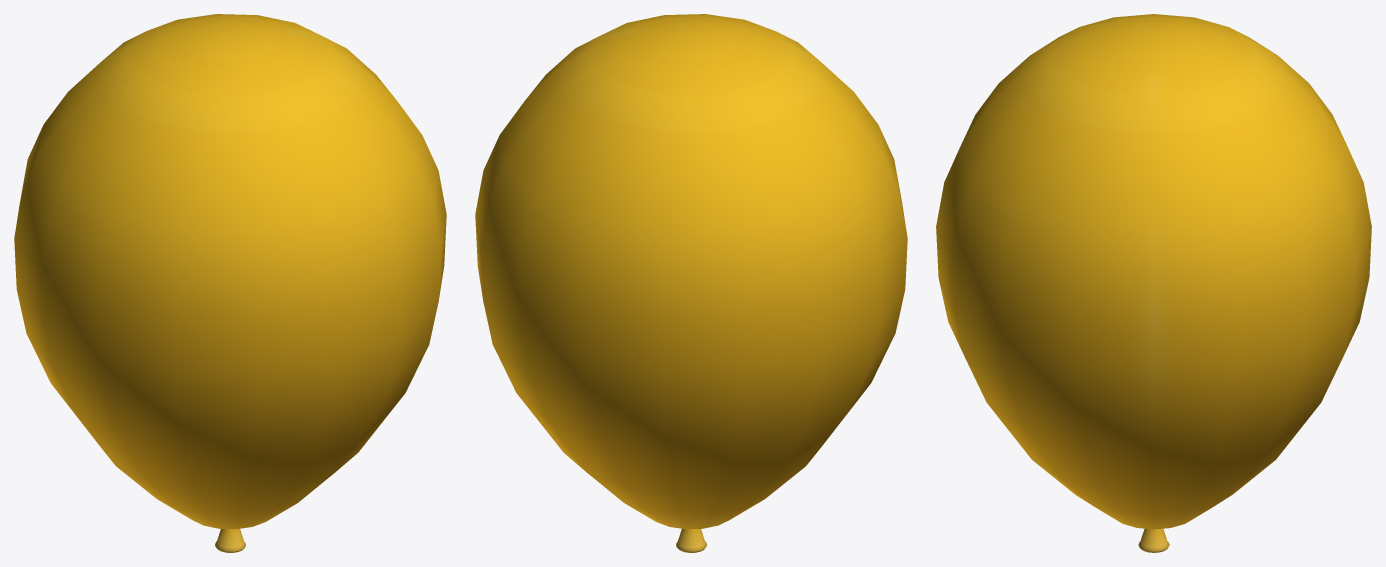
File: PartyBalloons03_2.FBX
3 views of the same model, side by side, from view 1: azimuth 30°, elevation 25°; view 2: azimuth 150°, elevation 25°; view 3: azimuth 270°, elevation 25° (orthographic).
Visible parts, largest first — view 1: PartyBalloons03_2; view 2: PartyBalloons03_2; view 3: PartyBalloons03_2.
Part boxes in pixels (bbox=[...]): PartyBalloons03_2: bbox=[14, 14, 446, 552]; PartyBalloons03_2: bbox=[475, 14, 907, 552]; PartyBalloons03_2: bbox=[936, 14, 1371, 552].
Size of what is drawn, in the model's own units: 0.3546 by 0.4578 by 0.3546.
